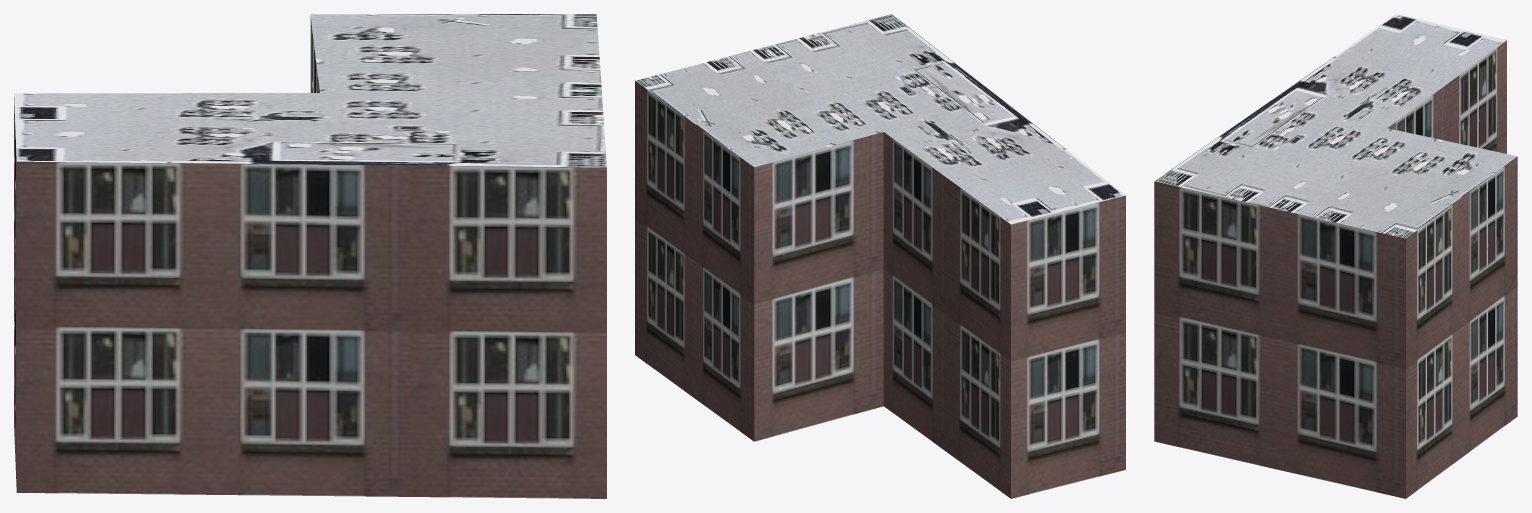
File: ResTex__593.fbx
3 views of the same model, side by side, from view 1: azimuth 30°, elevation 25°; view 2: azimuth 150°, elevation 25°; view 3: azimuth 270°, elevation 25° (orthographic). The views are drawn at different scales.
Visible parts, largest first — view 1: CityEngineMaterial_12_m, CityEngineMaterial_8_m; view 2: CityEngineMaterial_12_m, CityEngineMaterial_8_m; view 3: CityEngineMaterial_12_m, CityEngineMaterial_8_m.
Part boxes in pixels (x1,y1,x2,y2): CityEngineMaterial_12_m: (14,17,606,498); CityEngineMaterial_8_m: (14,14,606,167); CityEngineMaterial_12_m: (635,81,1125,498); CityEngineMaterial_8_m: (635,14,1125,224); CityEngineMaterial_12_m: (1154,40,1517,498); CityEngineMaterial_8_m: (1155,14,1516,238).
Size of the model in its own units: 11.11 by 6 by 7.59.
Materials: 2 (2 with a texture image).
